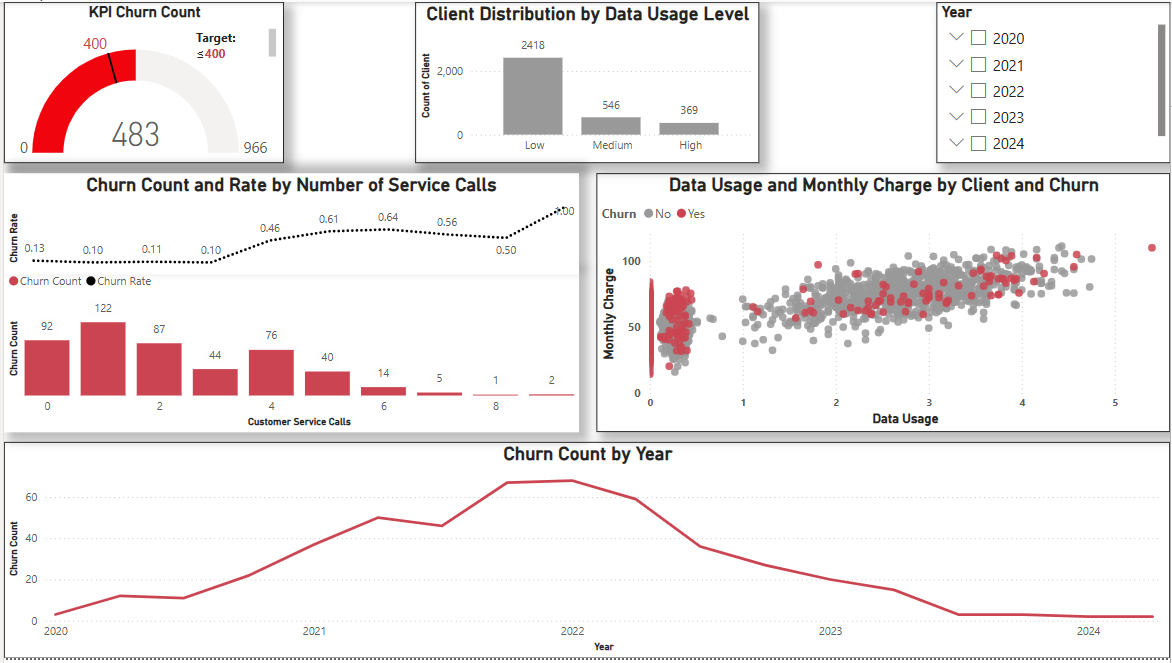

This screenshot's page, from the dashboard's own definition file:
{"tool":"powerbi","page":{"name":"Page 1","canvas":[1280,720],"ordinal":0},"visuals":[{"type":"slicer","title":"Year","fields":{"Values":["DateTable.Year","DateTable.Month"]},"box":[1023.7,0,256.6,177],"z":0},{"type":"lineChart","title":"Churn Count by Year","fields":{"Y":["Customer Churn.Churn Count"],"Category":["DateTable.Date.Variation.Date Hierarchy.Year","DateTable.Date.Variation.Date Hierarchy.Quarter"]},"box":[0,483,1280.3,237.4],"z":1000},{"type":"scatterChart","title":"Data Usage and Monthly Charge by Client and Churn","fields":{"X":["Sum(Customer Churn.DataUsage)"],"Y":["Avg(Customer Churn.MonthlyCharge)"],"Category":["Customer Churn.Client ID"],"Series":["Customer Churn.Churn YN"]},"box":[650.4,188,629.8,284],"z":2000},{"type":"gauge","title":"KPI Churn Count","fields":{"Y":["Customer Churn.Churn Count"],"TargetValue":["Customer Churn.Limit churn"]},"box":[0,0,307.4,177],"z":3000},{"type":"clusteredColumnChart","title":"Client Distribution by Data Usage Level","fields":{"Category":["Customer Churn.DataUsageLevel"],"Y":["CountNonNull(Customer Churn.Client ID)"]},"box":[451.5,0,377.4,177],"z":5000},{"type":"textbox","box":[205.8,24.7,97.4,42.5],"z":6000},{"type":"lineClusteredColumnComboChart","title":"Churn Count and Rate by Number of Service Calls","fields":{"Category":["Customer Churn.CustServCalls"],"Y":["Customer Churn.Churn Count"],"Y2":["Customer Churn.Churn Rate Scaled"]},"box":[0,286.8,631.2,185.2],"z":8000},{"type":"lineChart","title":"Churn Count and Rate by Number of Service Calls","fields":{"Category":["Customer Churn.CustServCalls"],"Y":["Customer Churn.Churn Rate"]},"box":[0,188,631.2,111.1],"z":9000}]}

Visuals, with their boxes in screenshot pixels (x1, y1, x2, y2), scaled from the page's 1280x720 canvas onto the 1172x663 screenshot:
"Year" slicer: bbox(937, 0, 1171, 163)
"Churn Count by Year" lineChart: bbox(0, 445, 1171, 662)
"Data Usage and Monthly Charge by Client and Churn" scatterChart: bbox(596, 173, 1171, 435)
"KPI Churn Count" gauge: bbox(0, 0, 281, 163)
"Client Distribution by Data Usage Level" clusteredColumnChart: bbox(413, 0, 759, 163)
textbox: bbox(188, 23, 278, 62)
"Churn Count and Rate by Number of Service Calls" lineClusteredColumnComboChart: bbox(0, 264, 578, 435)
"Churn Count and Rate by Number of Service Calls" lineChart: bbox(0, 173, 578, 275)
